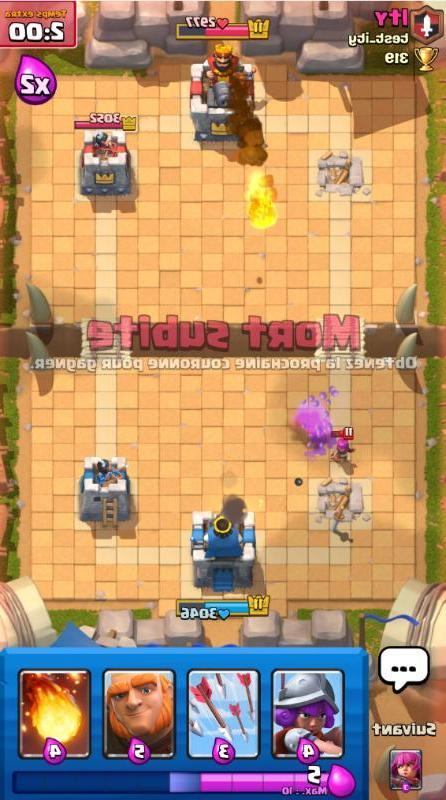enemy_archers: (330, 428, 358, 465)
enemy_fireball: (224, 82, 286, 244)
